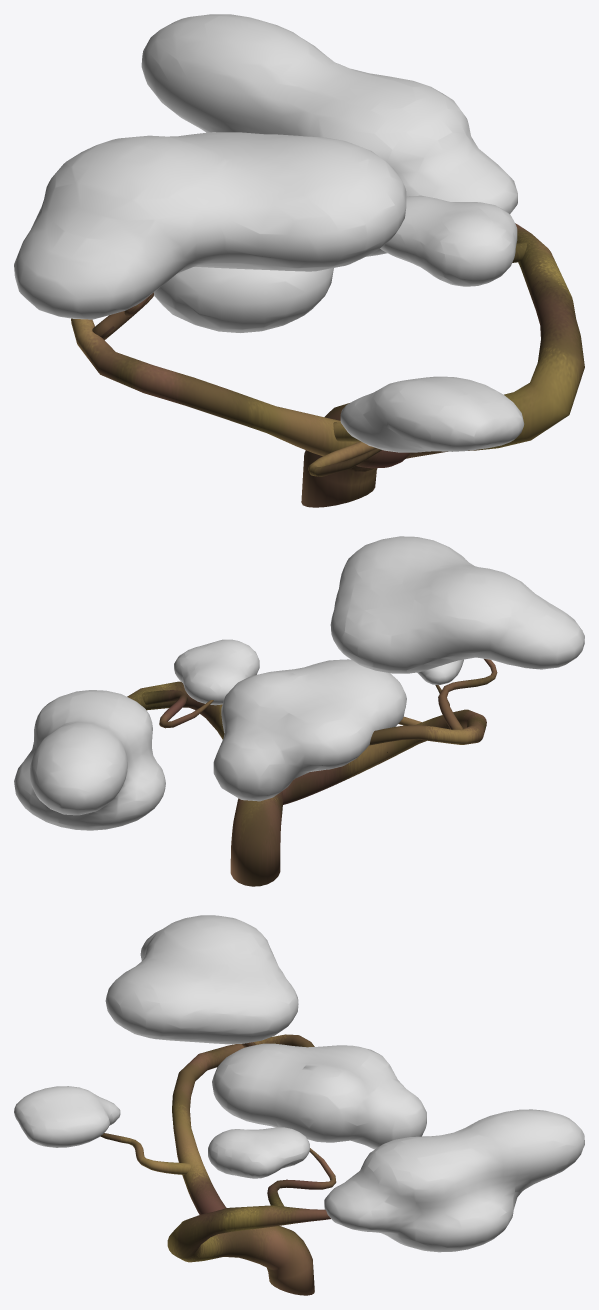
The model's file is megabig_tree.fbx.
The picture shows the model from 3 angles, top to bottom: view 1: azimuth 30°, elevation 25°; view 2: azimuth 150°, elevation 25°; view 3: azimuth 270°, elevation 25°; orthographic projection. The views are drawn at different scales.
Parts seen in each view (by area): view 1: Cylinder.005; view 2: Cylinder.005; view 3: Cylinder.005.
Boxes of the visible parts, x1,y1,x2,y2 form: Cylinder.005: (14, 14, 584, 507); Cylinder.005: (14, 536, 584, 886); Cylinder.005: (14, 915, 584, 1295).
Bounding box in the file's own units: 13990 × 9857 × 17663.
